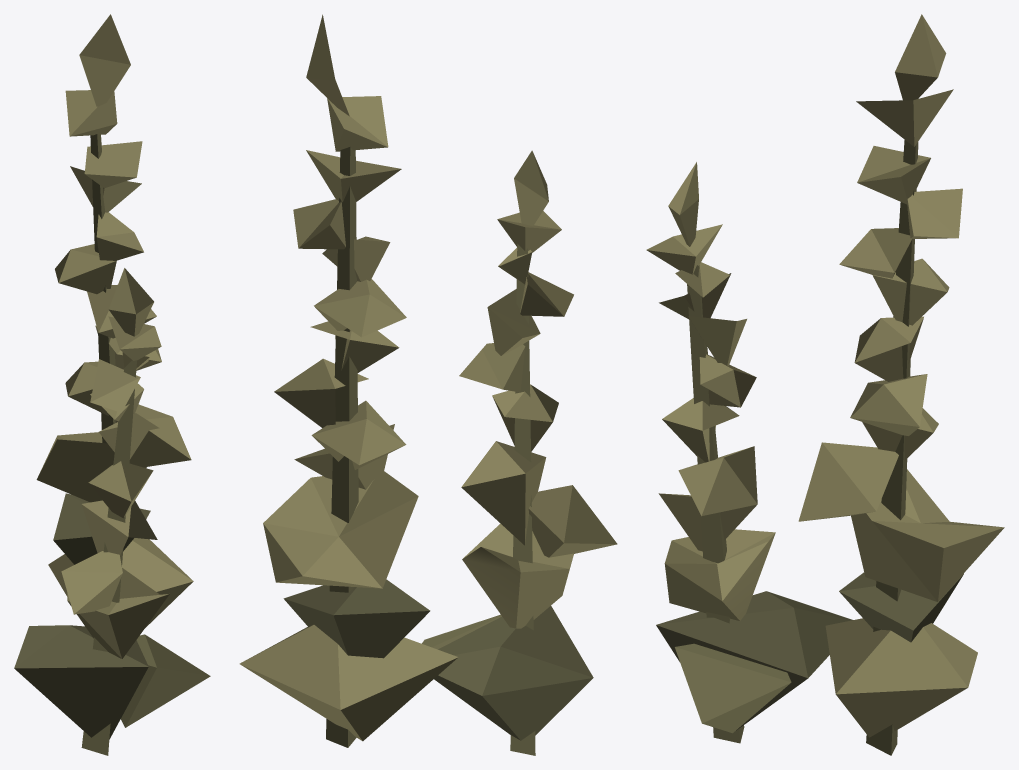
Rendered from SM_Env_Plant_Tall_02.fbx.
3 renders of one model, left to right at view 1: azimuth 30°, elevation 25°; view 2: azimuth 150°, elevation 25°; view 3: azimuth 270°, elevation 25°, orthographic. The views are drawn at different scales.
Visible parts, largest first — view 1: SM_Env_Plant_Tall_02; view 2: SM_Env_Plant_Tall_02; view 3: SM_Env_Plant_Tall_02.
Boxes of the visible parts, left/top/right/bottom form: SM_Env_Plant_Tall_02: left=14, top=14, right=210, bottom=755; SM_Env_Plant_Tall_02: left=239, top=14, right=617, bottom=755; SM_Env_Plant_Tall_02: left=646, top=14, right=1004, bottom=755.
Bounding box in the file's own units: 52.36 × 154 × 64.56.
